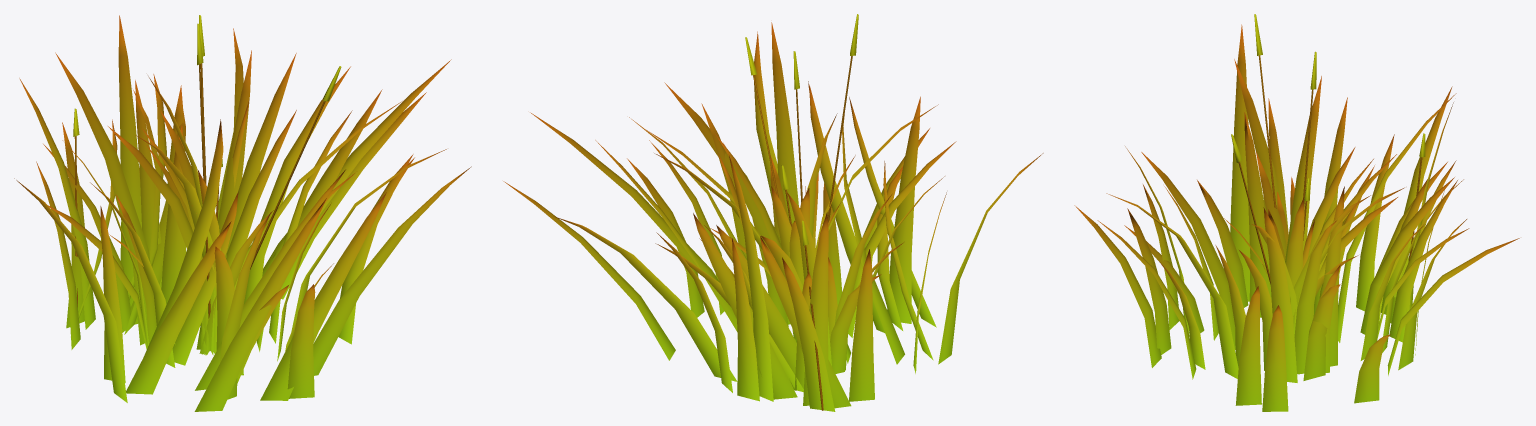
Rendered from cordgrass.glb.
The picture shows the model from 3 angles, left to right: view 1: azimuth 30°, elevation 25°; view 2: azimuth 150°, elevation 25°; view 3: azimuth 270°, elevation 25°; orthographic projection. The views are drawn at different scales.
Parts seen in each view (by area): view 1: v1, v0, v3, v2; view 2: v0, v1, v3, v2; view 3: v0, v1, v3, v2.
Boxes of the visible parts, x1,y1,x2,y2 form: v1: (78,28,471,411); v0: (14,15,446,402); v3: (62,15,402,355); v2: (43,66,354,382); v0: (627,22,1043,405); v1: (503,31,936,408); v3: (647,14,938,411); v2: (629,117,946,390); v0: (1074,24,1466,411); v1: (1097,112,1519,403); v3: (1224,14,1456,336); v2: (1159,97,1463,374).
Bounding box in the file's own units: 17.63 × 11.93 × 14.81.
